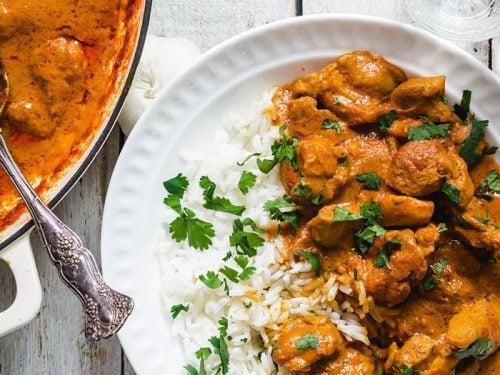chicken: (284, 66, 500, 375), (0, 5, 134, 226)
rice: (161, 82, 307, 375)
